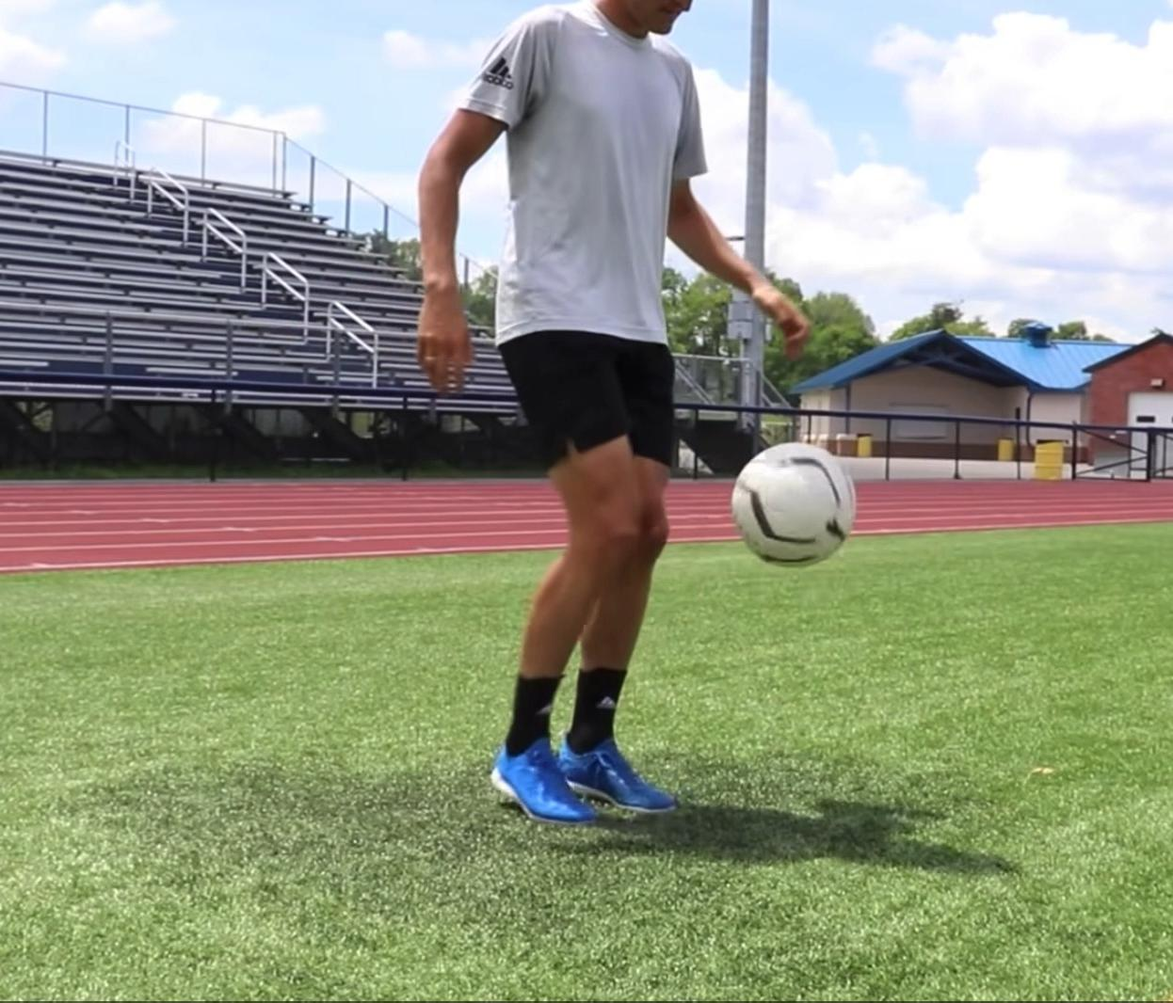ball: (731, 442, 858, 567)
foot: (488, 734, 596, 828), (563, 732, 673, 820)
person: (413, 0, 811, 827)
